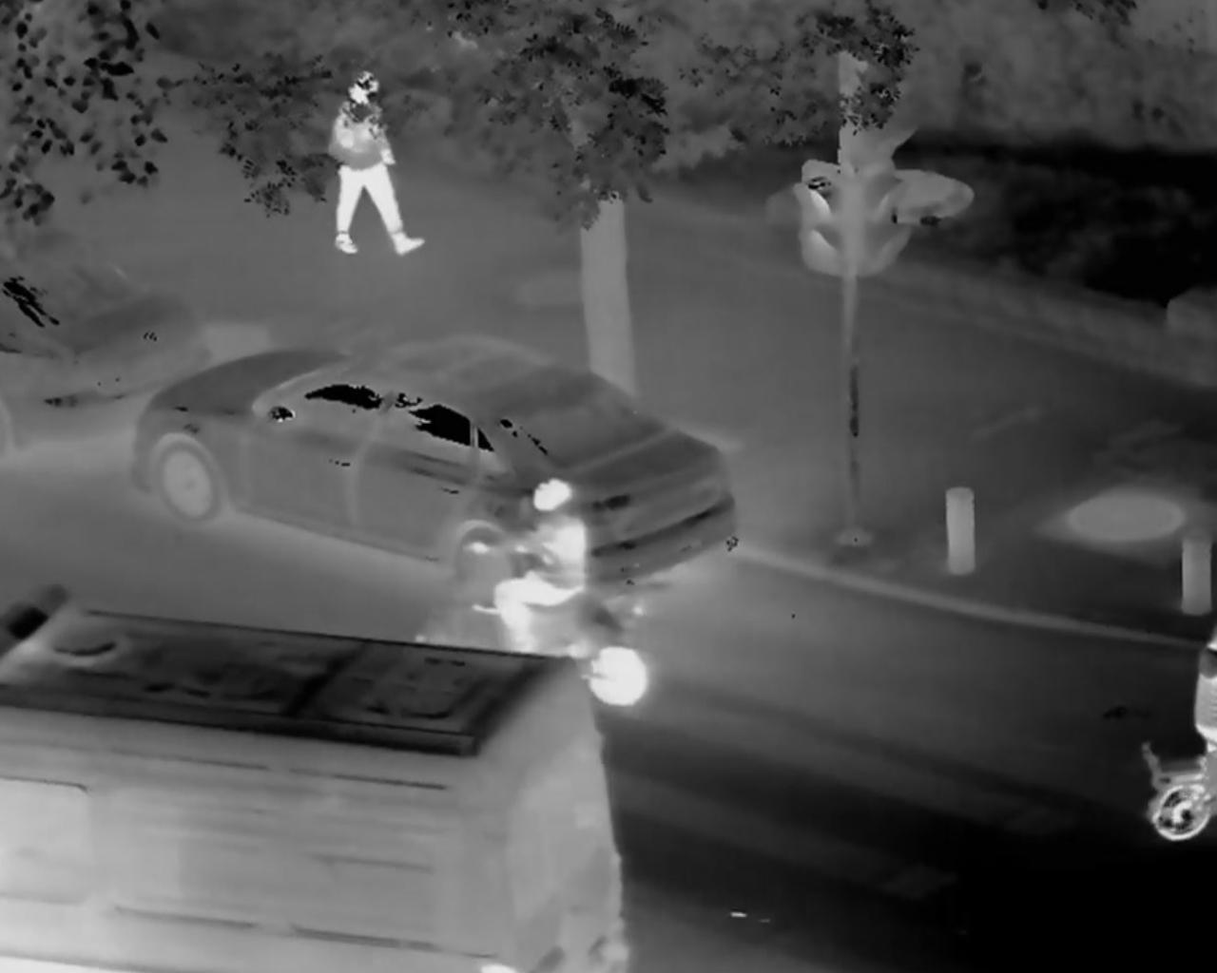person: (478, 473, 616, 689), (316, 62, 427, 264)
